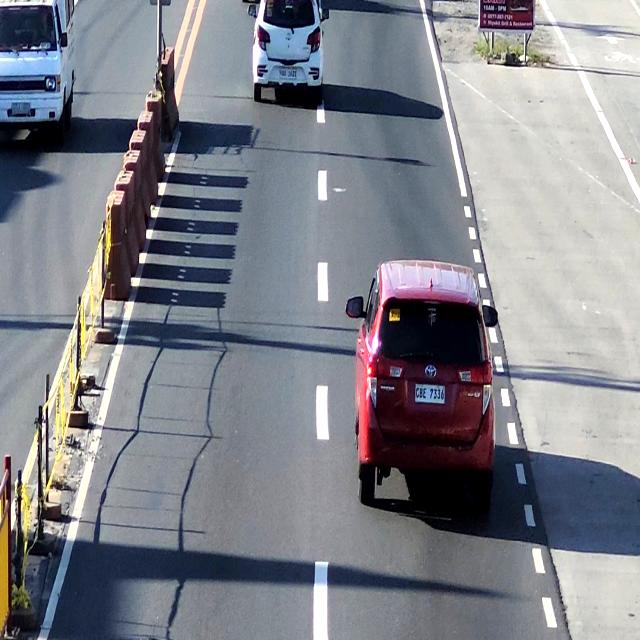Car: (352, 250, 498, 510), (253, 0, 325, 97)
License-Plate: (414, 380, 448, 412), (279, 62, 299, 80)
